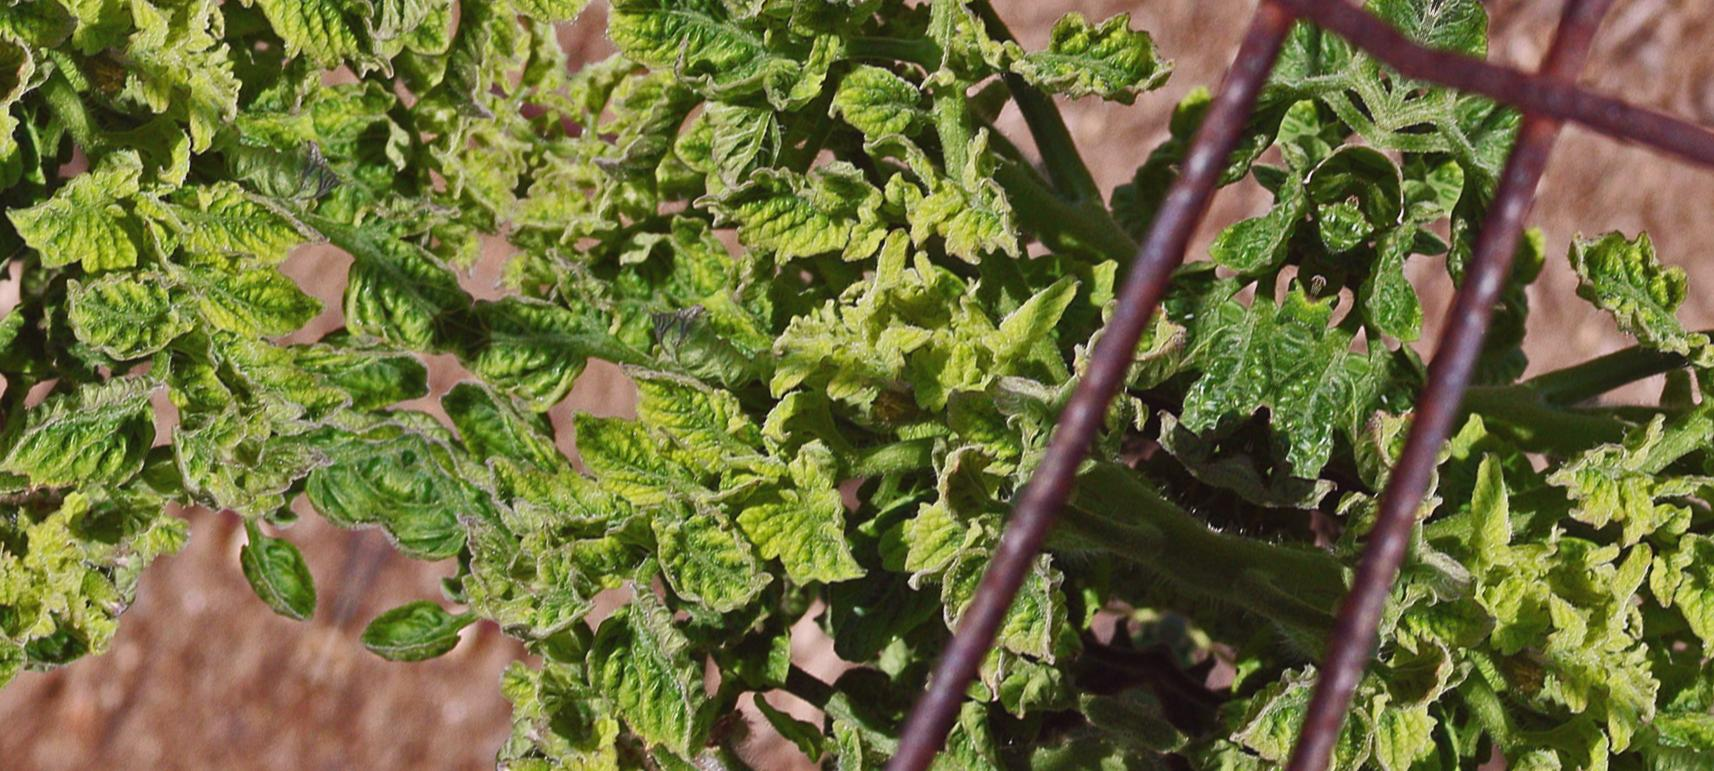Tomato leaf yellow virus: (689, 117, 936, 308), (1151, 223, 1328, 466), (558, 568, 769, 771), (438, 240, 635, 445), (364, 384, 540, 604), (605, 460, 808, 642), (530, 388, 750, 540), (733, 437, 915, 616), (759, 274, 949, 445), (614, 346, 805, 501), (1000, 0, 1195, 146), (592, 0, 811, 122), (879, 425, 1023, 601), (1266, 117, 1380, 285), (824, 29, 957, 162), (985, 243, 1100, 390), (901, 0, 1065, 41)
